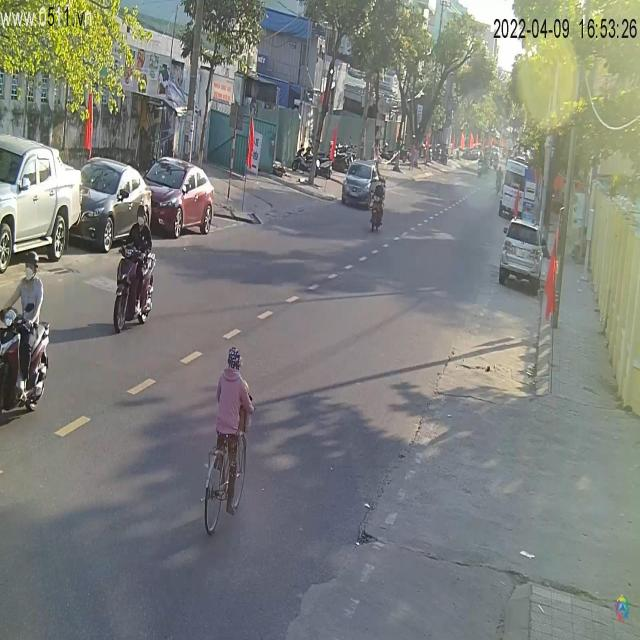car: (1, 135, 82, 274), (71, 159, 155, 255), (141, 156, 216, 241), (500, 214, 543, 296), (500, 160, 538, 222), (343, 162, 383, 209)
motorcycle: (0, 251, 47, 414), (110, 230, 157, 339), (368, 192, 387, 232)
